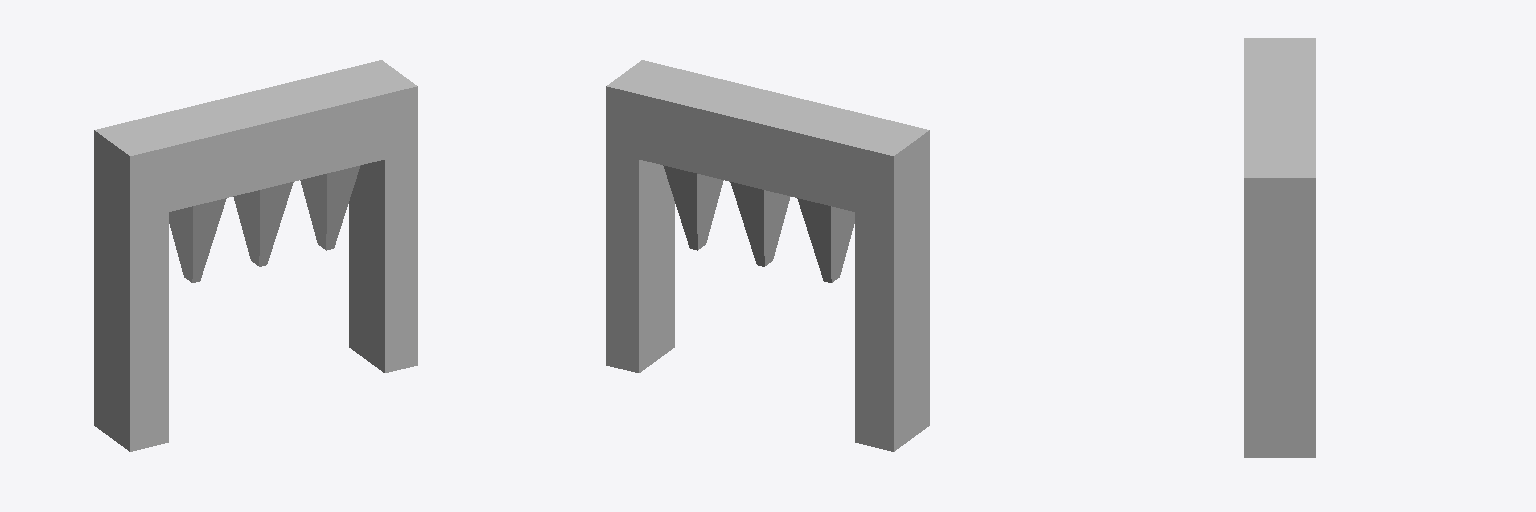
The model's file is tramp01.obj.
The picture shows the model from 3 angles: view 1: azimuth 30°, elevation 25°; view 2: azimuth 150°, elevation 25°; view 3: azimuth 270°, elevation 25°; orthographic projection.
Parts seen in each view (by area): view 1: Cube.022_Cube.001, Cube.019; view 2: Cube.022_Cube.001, Cube.019; view 3: Cube.022_Cube.001, Cube.019.
Boxes of the visible parts, x1,y1,x2,y2 form: Cube.022_Cube.001: [94, 60, 417, 451]; Cube.019: [133, 68, 384, 282]; Cube.022_Cube.001: [606, 60, 929, 451]; Cube.019: [639, 68, 890, 282]; Cube.022_Cube.001: [1244, 38, 1315, 457]; Cube.019: [1244, 57, 1315, 161].
Size of the model in its own units: 9.23 by 9.07 by 2.